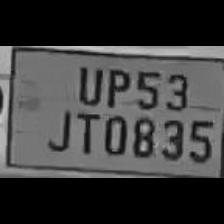0: (100, 108, 128, 156)
3: (157, 113, 185, 161), (162, 68, 190, 110)
5: (185, 115, 213, 163), (130, 64, 160, 108)
8: (129, 111, 155, 159)
J: (42, 102, 72, 154)
P: (102, 64, 131, 106)
T: (72, 109, 100, 155)
U: (70, 62, 102, 104)
